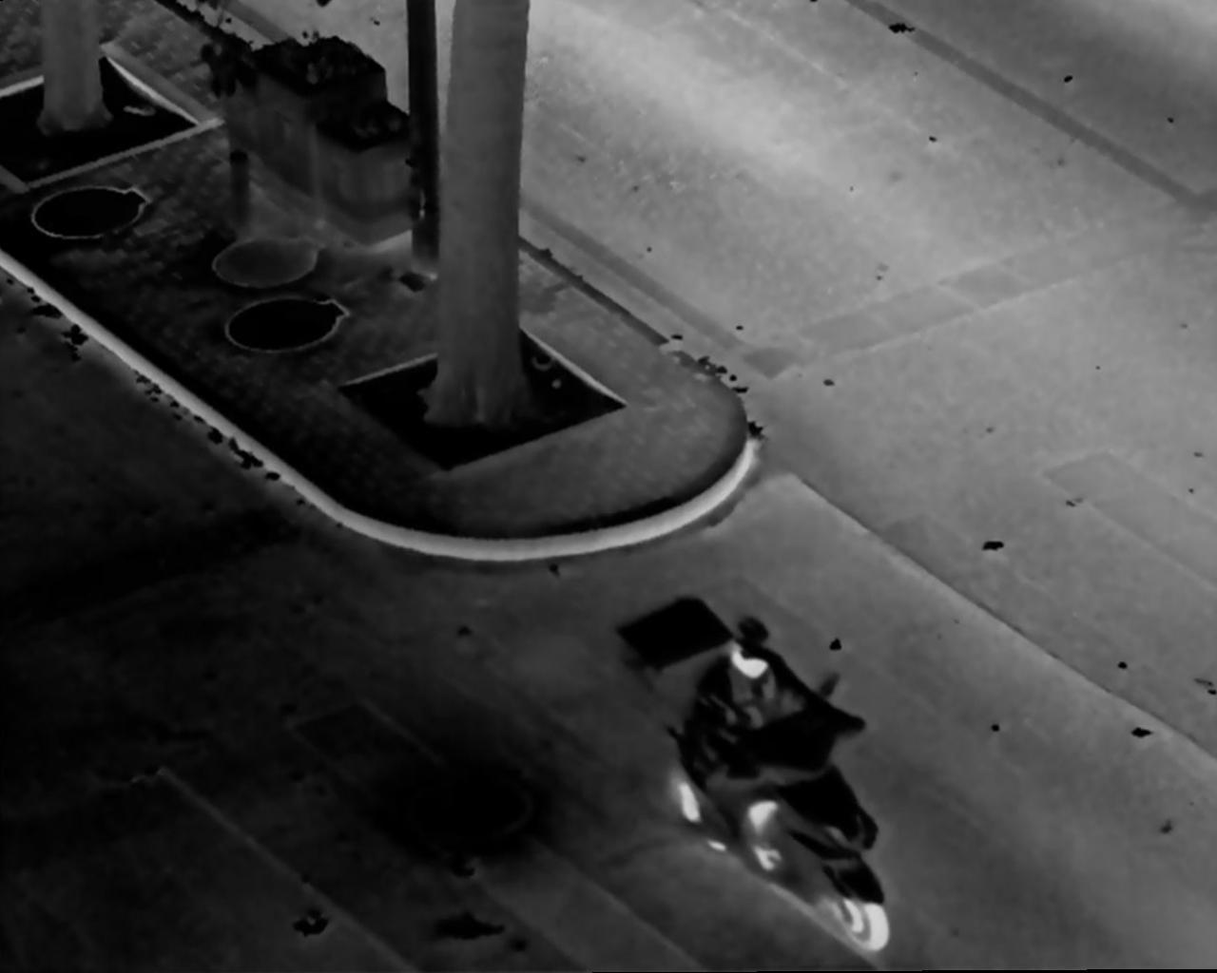person: (680, 614, 820, 858)
